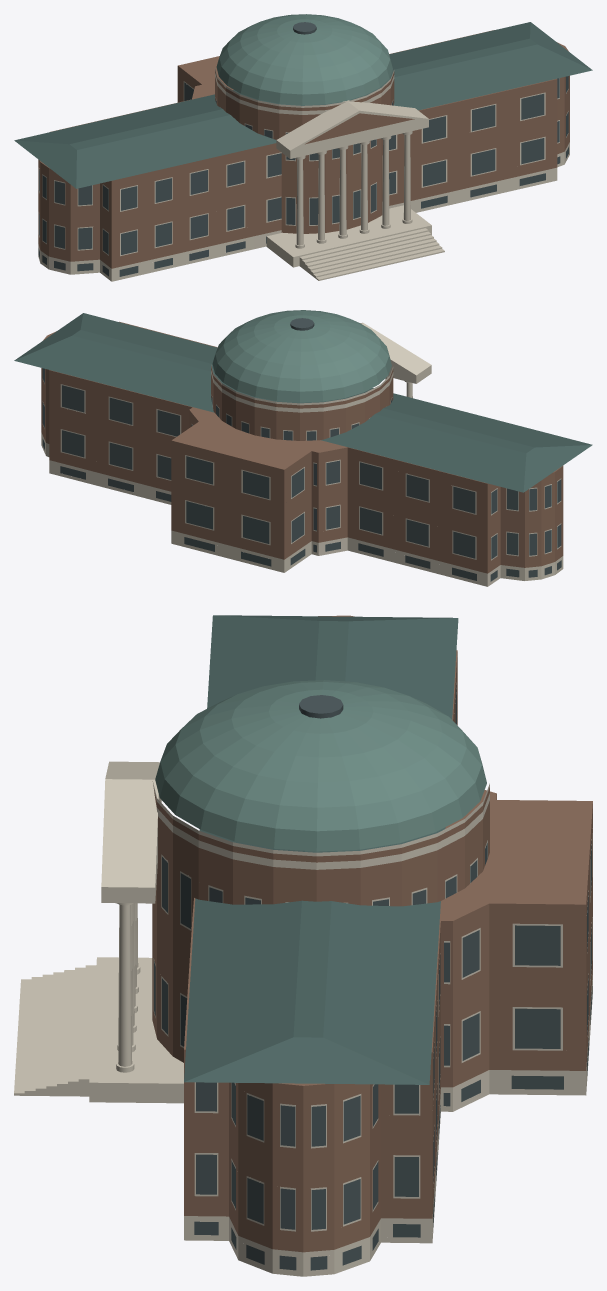
File: dallas-hall-smu-far.glb
3 views of the same model, one above another, from view 1: azimuth 30°, elevation 25°; view 2: azimuth 150°, elevation 25°; view 3: azimuth 270°, elevation 25° (orthographic). The views are drawn at different scales.
Visible parts, largest first — view 1: dallas-hall-smu-0-brick, dallas-hall-smu-0-stone, dallas-hall-smu-0-roof, dallas-hall-smu-0-glass, dallas-hall-smu-0-copper; view 2: dallas-hall-smu-0-brick, dallas-hall-smu-0-roof, dallas-hall-smu-0-glass, dallas-hall-smu-0-copper, dallas-hall-smu-0-stone; view 3: dallas-hall-smu-0-brick, dallas-hall-smu-0-roof, dallas-hall-smu-0-stone, dallas-hall-smu-0-copper, dallas-hall-smu-0-glass.
Part boxes in pixels (left/top/right/bottom): dallas-hall-smu-0-brick: left=38, top=30, right=569, bottom=268; dallas-hall-smu-0-stone: left=38, top=67, right=569, bottom=281; dallas-hall-smu-0-roof: left=14, top=22, right=592, bottom=188; dallas-hall-smu-0-glass: left=38, top=22, right=568, bottom=276; dallas-hall-smu-0-copper: left=216, top=14, right=392, bottom=105; dallas-hall-smu-0-brick: left=41, top=321, right=563, bottom=573; dallas-hall-smu-0-roof: left=14, top=313, right=592, bottom=492; dallas-hall-smu-0-glass: left=42, top=318, right=561, bottom=581; dallas-hall-smu-0-copper: left=212, top=310, right=391, bottom=402; dallas-hall-smu-0-stone: left=41, top=322, right=563, bottom=586; dallas-hall-smu-0-brick: left=152, top=615, right=592, bottom=1252; dallas-hall-smu-0-roof: left=184, top=615, right=458, bottom=1084; dallas-hall-smu-0-stone: left=14, top=682, right=592, bottom=1276; dallas-hall-smu-0-copper: left=155, top=680, right=486, bottom=851; dallas-hall-smu-0-glass: left=154, top=684, right=592, bottom=1270.
Bounding box in the file's own units: 82.52 × 27.6 × 42.89.
